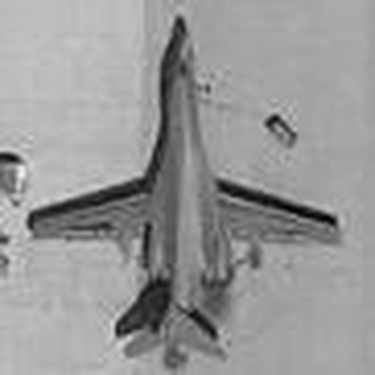airplane: (16, 6, 358, 373)
